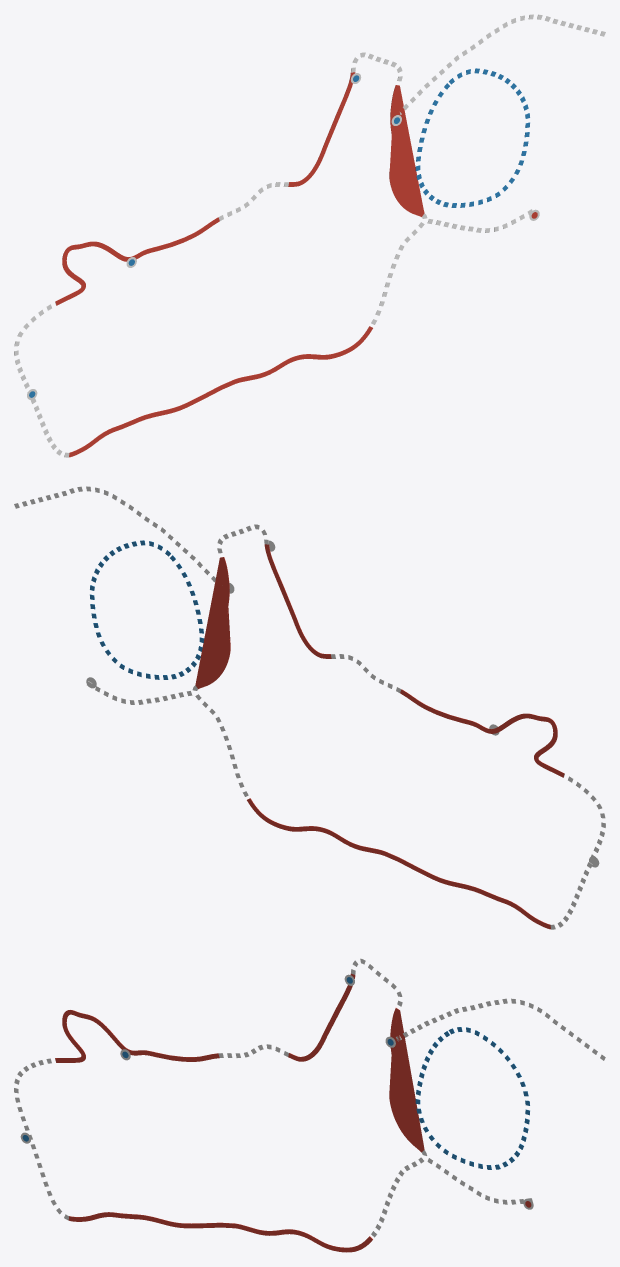
The model's file is MapaPuma.fbx.
3 views of the same model, one above another, from view 1: azimuth 30°, elevation 25°; view 2: azimuth 150°, elevation 25°; view 3: azimuth 330°, elevation 25° (orthographic).
Parts seen in each view (by area): view 1: Tapa_1_2, Tapa_1_3, Tapa_1_5, Tapa_1; view 2: Tapa_2_2, Tapa_2_3, Tapa_2_5, Tapa_2; view 3: Tapa_1_2, Tapa_1_3, Tapa_1_5, Tapa_1, Tapa_2_2.
Boxes of the visible parts, x1,y1,x2,y2 form: Tapa_1_2: (389, 85, 424, 216); Tapa_1_3: (69, 326, 372, 457); Tapa_1_5: (55, 217, 219, 305); Tapa_1: (288, 72, 355, 186); Tapa_2_2: (195, 557, 230, 688); Tapa_2_3: (247, 798, 550, 929); Tapa_2_5: (400, 689, 564, 777); Tapa_2: (264, 544, 331, 658); Tapa_1_2: (389, 1008, 424, 1152); Tapa_1_3: (68, 1212, 372, 1252); Tapa_1_5: (55, 1010, 219, 1062); Tapa_1: (288, 973, 355, 1061); Tapa_2_2: (396, 1011, 424, 1149).
Bounding box in the file's own units: 28.51 × 15.35 × 0.2744.
